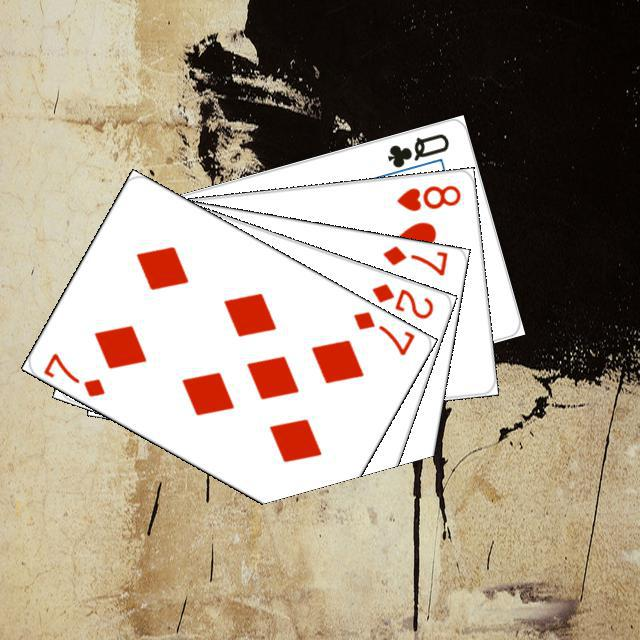2d: (366, 278, 435, 321)
7d: (348, 306, 416, 358), (39, 347, 107, 399), (378, 240, 449, 277)
8h: (392, 180, 463, 213)
Qc: (380, 128, 451, 178)
